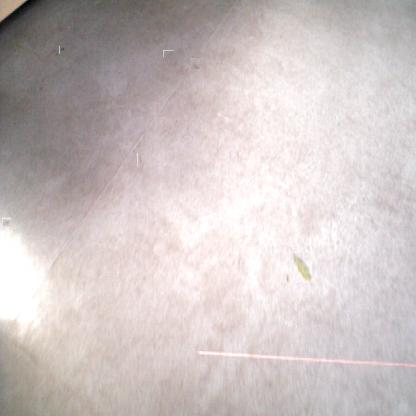dirty: (292, 252, 312, 283)
mark: (190, 58, 200, 70), (137, 152, 144, 166), (164, 49, 173, 58), (284, 272, 290, 283), (3, 217, 10, 226), (59, 46, 66, 54), (54, 48, 58, 56)
